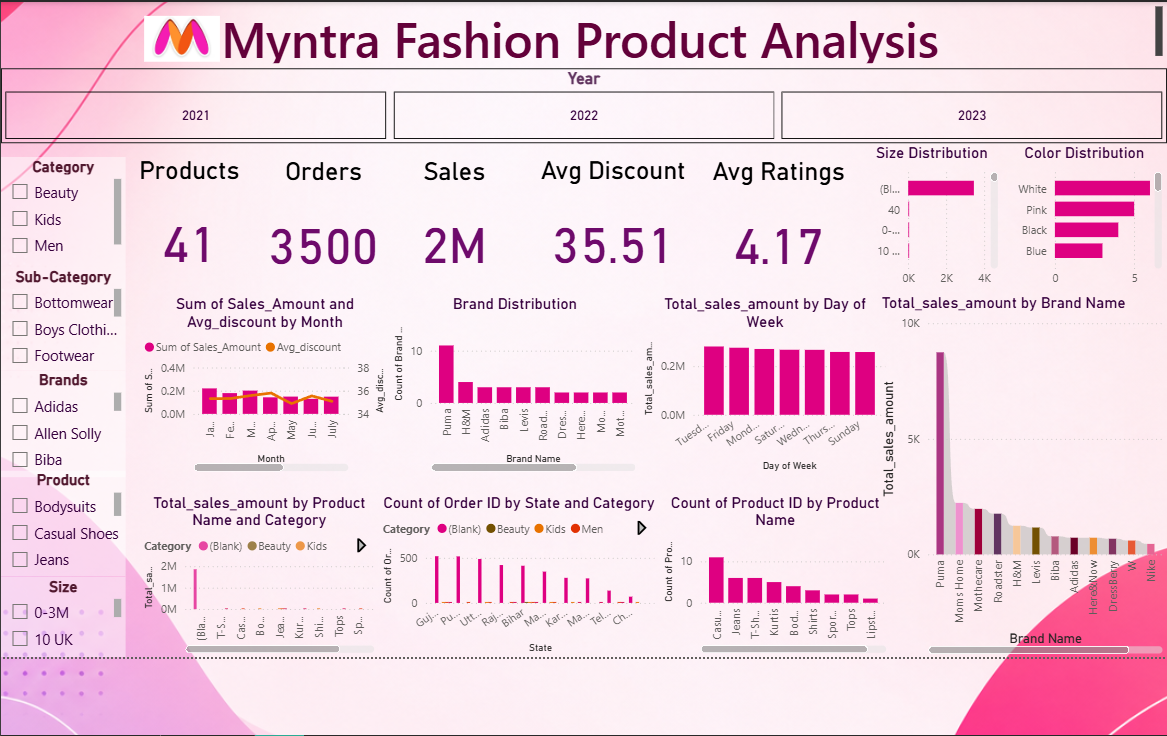

The dashboard page shown, as its layout file describes it:
{"tool":"powerbi","page":{"name":"Page 1","canvas":[1280,720],"ordinal":0},"visuals":[{"type":"textbox","box":[0,0,1280.3,72.7],"z":0},{"type":"card","title":"Products","fields":{"Values":["Count(dim_products.Product ID)"]},"box":[136.8,139.3,141.8,150.5],"z":1000},{"type":"card","title":"Orders","fields":{"Values":["fact_orders.Total_order"]},"box":[289.8,138.1,148,151.8],"z":2000},{"type":"card","title":"Sales","fields":{"Values":["fact_orders.Total_sales_amount"]},"box":[450.3,138.1,141.8,151.8],"z":3000},{"type":"card","title":"Avg Discount","fields":{"Values":["fact_orders.Avg_discount"]},"box":[604.6,136.8,167.9,153],"z":4000},{"type":"card","title":"Avg Ratings","fields":{"Values":["fact_orders.Avg_ratings"]},"box":[783.7,138.1,151.8,151.8],"z":5000},{"type":"slicer","title":"Category","fields":{"Values":["dim_products.Category"]},"box":[0,136.8,136.8,126.9],"z":6000},{"type":"slicer","title":"Sub-Category","fields":{"Values":["dim_products.Sub-category"]},"box":[0,263.5,137.2,113.9],"z":7000},{"type":"slicer","title":"Brands","fields":{"Values":["dim_products.Brand Name"]},"box":[0,377.4,137.2,116.6],"z":8000},{"type":"slicer","title":"Product","fields":{"Values":["dim_products.Product Name"]},"box":[0,494,137.2,115.3],"z":9000},{"type":"slicer","title":"Size","fields":{"Values":["dim_products.Size"]},"box":[0,609.3,137.2,111.1],"z":10000},{"type":"advancedSlicerVisual","fields":{"Values":["Date_table.Year"]},"box":[0,72.7,1280.3,65.9],"z":11000},{"type":"lineStackedColumnComboChart","fields":{"Category":["Date_table.Date.Variation.Date Hierarchy.Month"],"Y2":["fact_orders.Avg_discount"],"Y":["Sum(fact_orders.Sales_Amount)"]},"box":[151.8,303.5,274.9,216.4],"z":12000},{"type":"clusteredColumnChart","title":"Brand Distribution","fields":{"Category":["dim_products.Brand Name"],"Y":["CountNonNull(dim_products.Brand Name)"]},"box":[426.7,303.5,274.9,216.4],"z":13000},{"type":"clusteredColumnChart","fields":{"Category":["dim_customers.State"],"Y":["CountNonNull(fact_orders.Order ID)"],"Series":["dim_products.Category"]},"box":[414.2,539.9,308.5,180.4],"z":14000},{"type":"clusteredColumnChart","fields":{"Category":["Date_table.Day of Week"],"Y":["fact_orders.Total_sales_amount"]},"box":[701.6,303.5,274.9,216.4],"z":15000},{"type":"clusteredColumnChart","fields":{"Y":["fact_orders.Total_sales_amount"],"Series":["dim_products.Category"],"Category":["dim_products.Product Name"]},"box":[151.8,539.9,262.5,180.4],"z":16000},{"type":"clusteredColumnChart","fields":{"Category":["dim_products.Product Name"],"Y":["CountNonNull(dim_products.Product ID)"]},"box":[722.7,539.9,253.8,180.4],"z":17000},{"type":"map","fields":{"Category":["dim_customers.City"],"Series":["dim_customers.State"],"Y":["fact_orders.Total_order"]},"box":[972.8,303.5,307.3,416.7],"z":18000},{"type":"barChart","title":"Size Distribution","fields":{"Category":["dim_products.Size"],"Y":["fact_orders.Total_order"]},"box":[935.5,136.8,165.4,153],"z":19000},{"type":"barChart","title":"Color Distribution","fields":{"Category":["dim_products.Color"],"Y":["CountNonNull(dim_products.Size)"]},"box":[1100,139,180,150],"z":20000}]}

Visuals, with their boxes on the page's 1280x720 design canvas (x1, y1, x2, y2). These are canvas units, not pixel positions in the 1167x736 screenshot, which may show the page scaled, cropped or inside an application window:
textbox: 0/0/1280/73
"Products" card: 137/139/279/290
"Orders" card: 290/138/438/290
"Sales" card: 450/138/592/290
"Avg Discount" card: 605/137/772/290
"Avg Ratings" card: 784/138/936/290
"Category" slicer: 0/137/137/264
"Sub-Category" slicer: 0/264/137/377
"Brands" slicer: 0/377/137/494
"Product" slicer: 0/494/137/609
"Size" slicer: 0/609/137/720
advancedSlicerVisual - Date_table.Year: 0/73/1280/139
lineStackedColumnComboChart - Date_table.Date.Variation.Date Hierarchy.Month x fact_orders.Avg_discount: 152/304/427/520
"Brand Distribution" clusteredColumnChart: 427/304/702/520
clusteredColumnChart - dim_customers.State x CountNonNull(fact_orders.Order ID): 414/540/723/720
clusteredColumnChart - Date_table.Day of Week x fact_orders.Total_sales_amount: 702/304/976/520
clusteredColumnChart - fact_orders.Total_sales_amount x dim_products.Category: 152/540/414/720
clusteredColumnChart - dim_products.Product Name x CountNonNull(dim_products.Product ID): 723/540/976/720
map - dim_customers.City x dim_customers.State: 973/304/1280/720
"Size Distribution" barChart: 936/137/1101/290
"Color Distribution" barChart: 1100/139/1280/289
